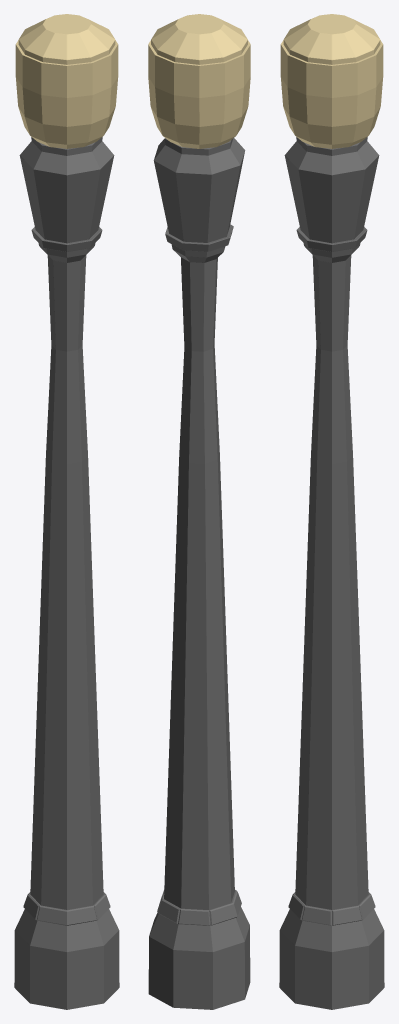
The model's file is Lampost.fbx.
The picture shows the model from 3 angles, left to right: view 1: azimuth 90°, elevation 25°; view 2: azimuth 150°, elevation 25°; view 3: azimuth 270°, elevation 25°; orthographic projection.
Parts seen in each view (by area): view 1: pCylinder4; view 2: pCylinder4; view 3: pCylinder4.
Part boxes in pixels (bbox=[...]): pCylinder4: bbox=[14, 14, 119, 1009]; pCylinder4: bbox=[148, 14, 250, 1009]; pCylinder4: bbox=[279, 14, 384, 1009].
Bounding box in the file's own units: 2.81 × 28.49 × 2.81.
